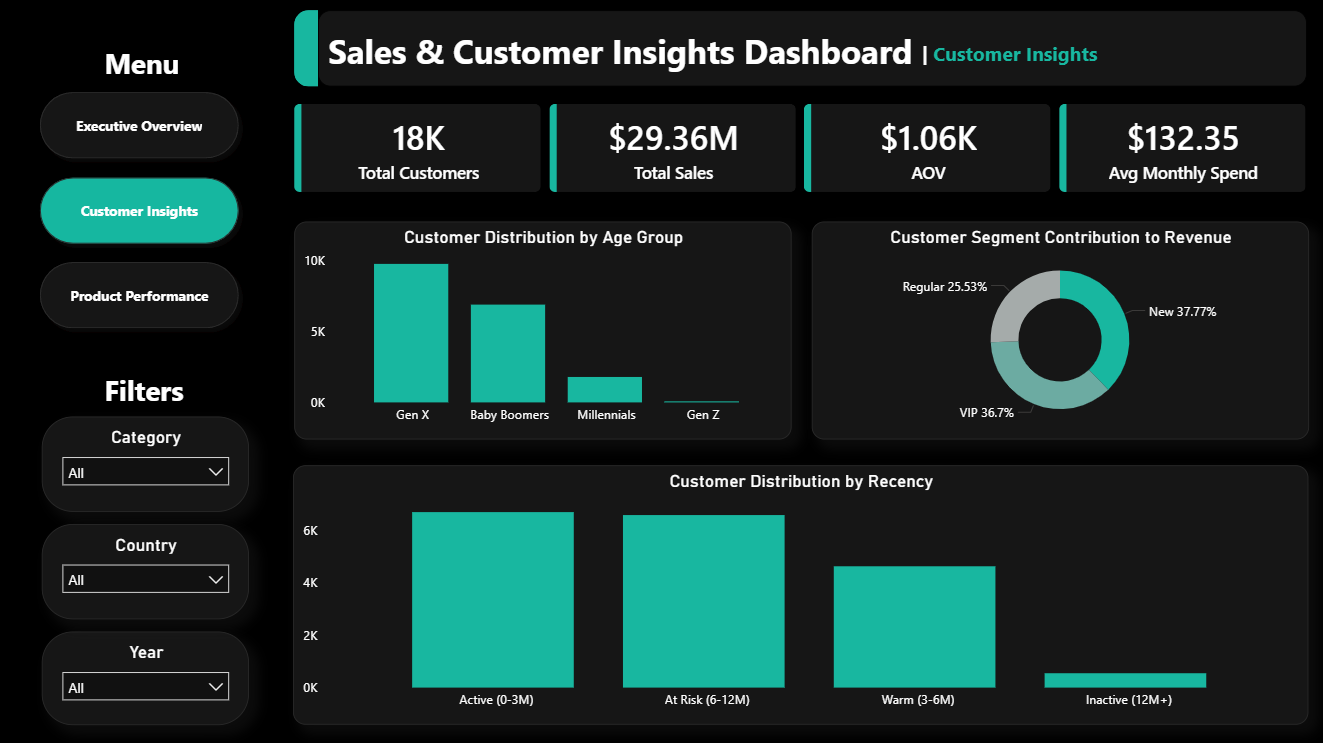

The page's visual inventory and layout, read from the dashboard file:
{"tool":"powerbi","page":{"name":"Customer Insights","canvas":[1280,720],"ordinal":1},"visuals":[{"type":"slicer","title":"Year","fields":{"Values":["DateTable.Year"]},"box":[42.2,610.9,200.3,90.5],"z":3000},{"type":"slicer","title":"Category","fields":{"Values":["gold dim_products.category"]},"box":[42.2,403.4,200.3,91.7],"z":4000},{"type":"slicer","title":"Country","fields":{"Values":["gold dim_customers.country"]},"box":[42.2,507.2,200.3,91.7],"z":5000},{"type":"textbox","box":[308.8,10.9,954.3,73.6],"z":7000},{"type":"shape","box":[285.9,10.9,22.9,73.6],"z":8000},{"type":"textbox","box":[97.7,355.2,143.6,152],"z":9000},{"type":"pageNavigator","box":[31.8,80.7,210.3,247],"z":10000},{"type":"textbox","box":[97.7,38.6,302.8,361.9],"z":11000},{"type":"cardVisual","fields":{"Data":["Count(gold dim_customers.customer_number)","dax_measures.total_sales","dax_measures.AOV","dax_measures.avg_monthly_spend"]},"box":[269,84.5,1011,119.4],"z":12000},{"type":"donutChart","title":"Customer Segment Contribution to Revenue","fields":{"Category":["gold dim_customers.Customer Segment"],"Y":["dax_measures.Total Sales"]},"box":[785,215,480,210],"z":12001},{"type":"clusteredColumnChart","title":"Customer Distribution by Age Group","fields":{"Category":["gold dim_customers.Generation"],"Y":["Count(gold dim_customers.customer_number)"]},"box":[285.9,215,480,210],"z":12003},{"type":"clusteredColumnChart","title":"Customer Distribution by Recency","fields":{"Category":["gold dim_customers.Recency Group"],"Y":["Count(gold dim_customers.customer_number)"]},"box":[285,450,980,250],"z":12004}]}

Visuals, with their boxes in screenshot pixels (x1, y1, x2, y2), scaled from the page's 1280x720 canvas onto the 1323x743 screenshot:
"Year" slicer: 44,630,251,724
"Category" slicer: 44,416,251,511
"Country" slicer: 44,523,251,618
textbox: 319,11,1306,87
shape: 296,11,319,87
textbox: 101,367,249,523
pageNavigator: 33,83,250,338
textbox: 101,40,414,413
cardVisual - Count(gold dim_customers.customer_number) x dax_measures.total_sales: 278,87,1322,210
"Customer Segment Contribution to Revenue" donutChart: 811,222,1307,439
"Customer Distribution by Age Group" clusteredColumnChart: 296,222,792,439
"Customer Distribution by Recency" clusteredColumnChart: 295,464,1307,722
